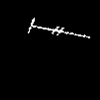treble_crochet: (28, 18, 89, 37)
